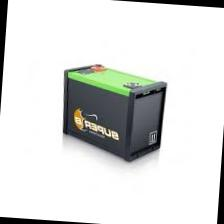battery: (52, 53, 176, 163)
